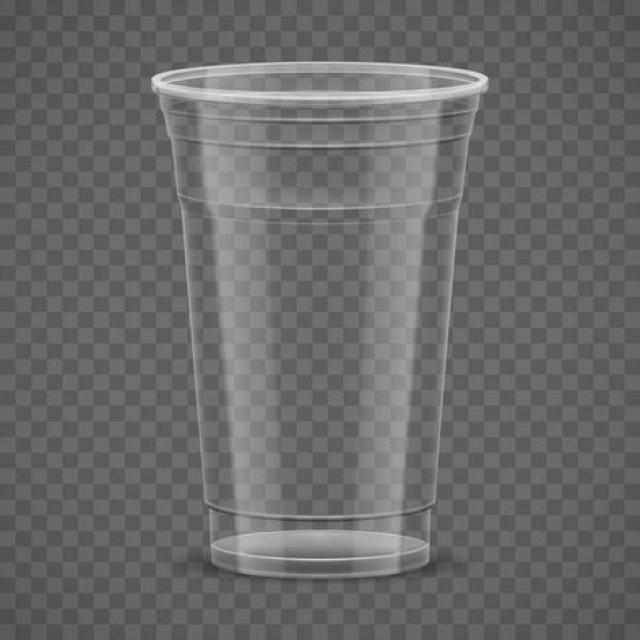bottle: (152, 62, 488, 577)
